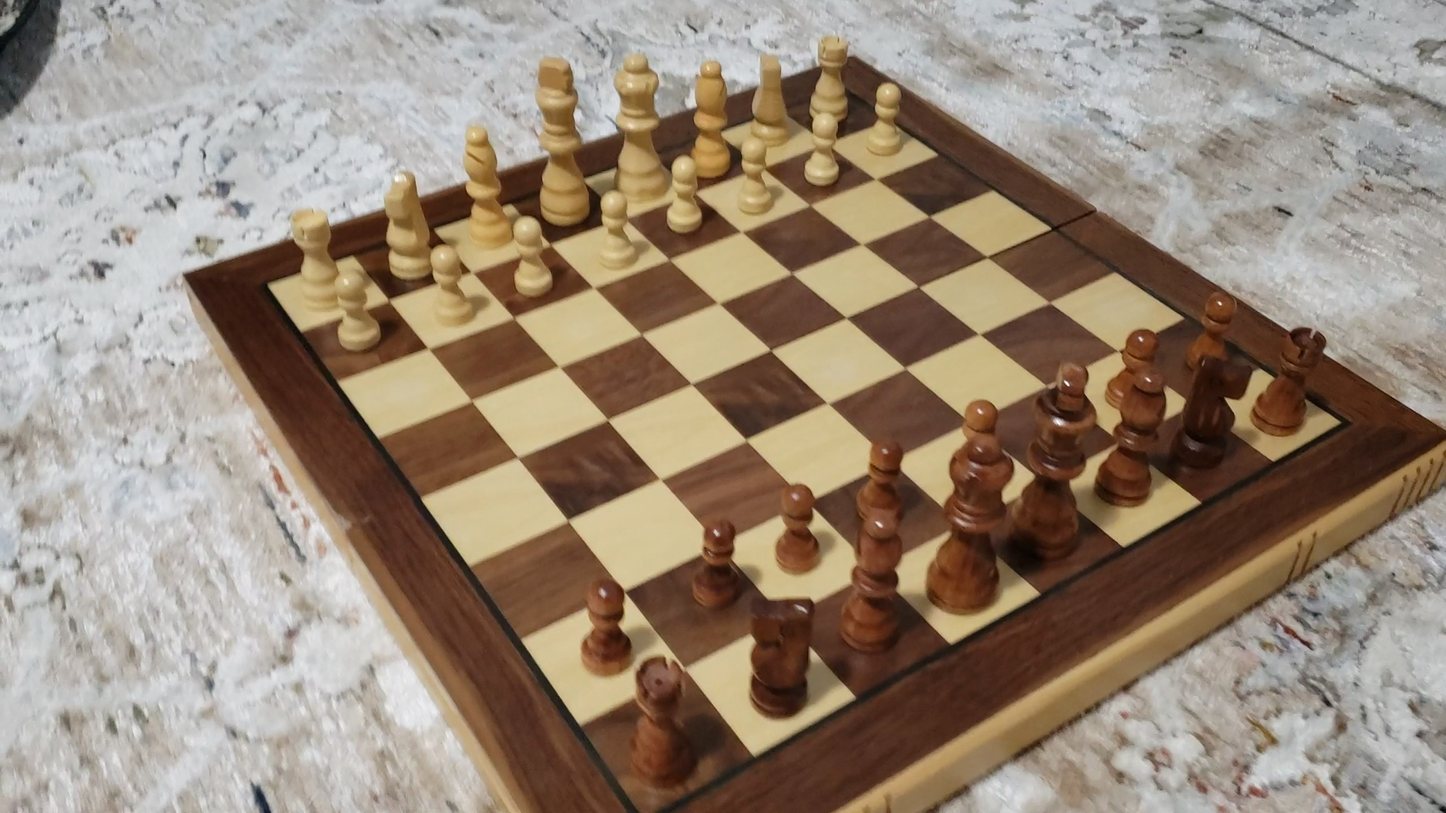black-bishop: (840, 488, 907, 655), (1094, 368, 1170, 507)
black-king: (1019, 361, 1101, 573)
black-knight: (745, 594, 817, 719), (1170, 352, 1236, 473)
black-pawn: (1103, 325, 1166, 429), (578, 574, 634, 678), (689, 515, 745, 614), (1182, 288, 1242, 377), (853, 435, 907, 530), (772, 479, 824, 576)
black-queen: (922, 399, 1017, 616)
black-rook: (626, 655, 698, 792), (1251, 324, 1330, 438)
white-bishop: (460, 119, 512, 252), (690, 56, 731, 183)
white-king: (531, 51, 590, 230)
white-knight: (381, 167, 434, 285), (751, 50, 788, 148)
white-pawn: (326, 263, 387, 359), (587, 186, 647, 278), (421, 241, 480, 331), (505, 212, 560, 303), (728, 130, 782, 222), (659, 149, 711, 241), (798, 104, 850, 193), (861, 77, 910, 161)
white-queen: (612, 48, 664, 207)
white-rook: (288, 204, 341, 310), (811, 29, 853, 128)
